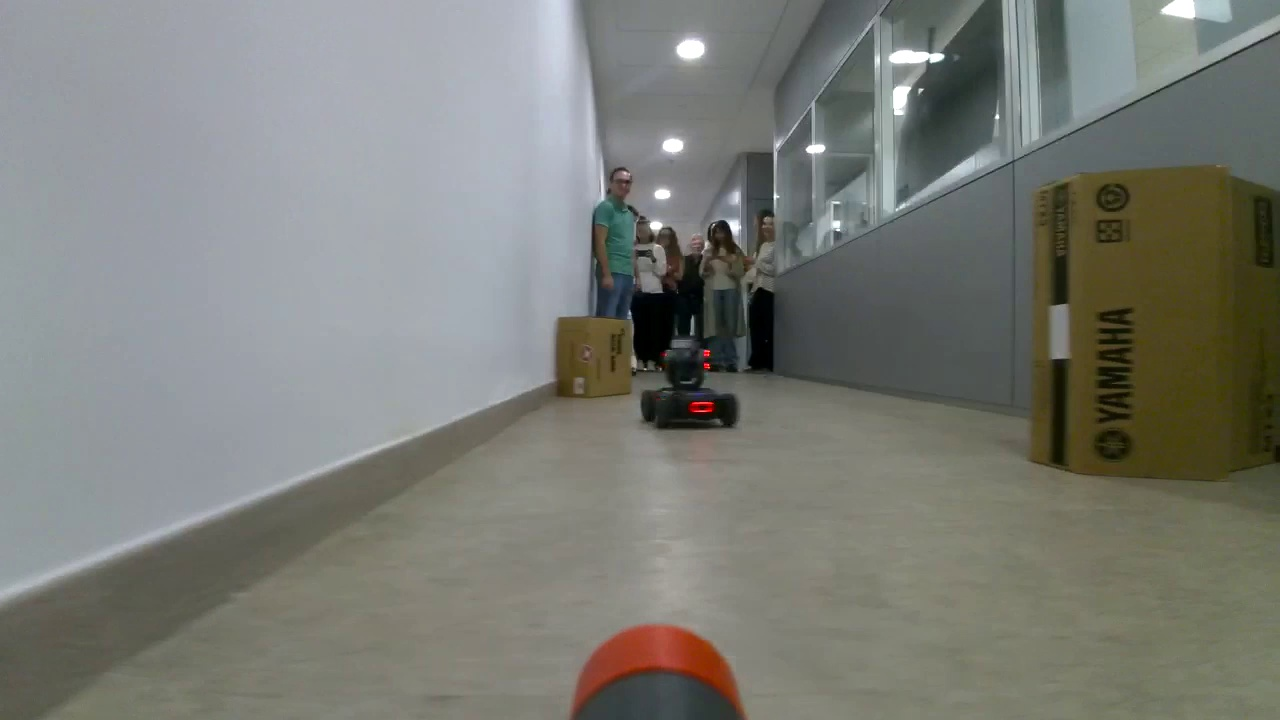robot: (638, 336, 739, 435)
